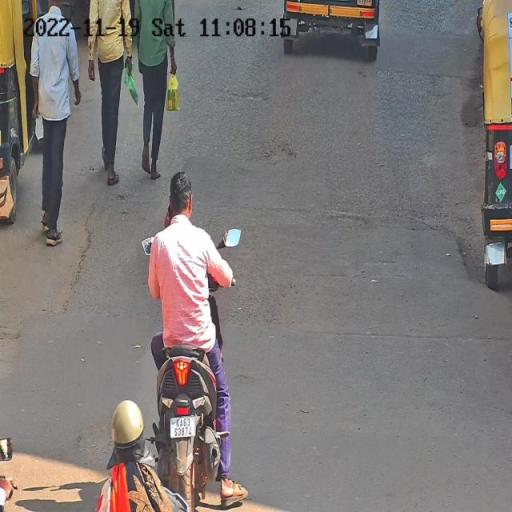numberplate: (170, 415, 196, 439)
using mobile: (163, 192, 173, 230)
